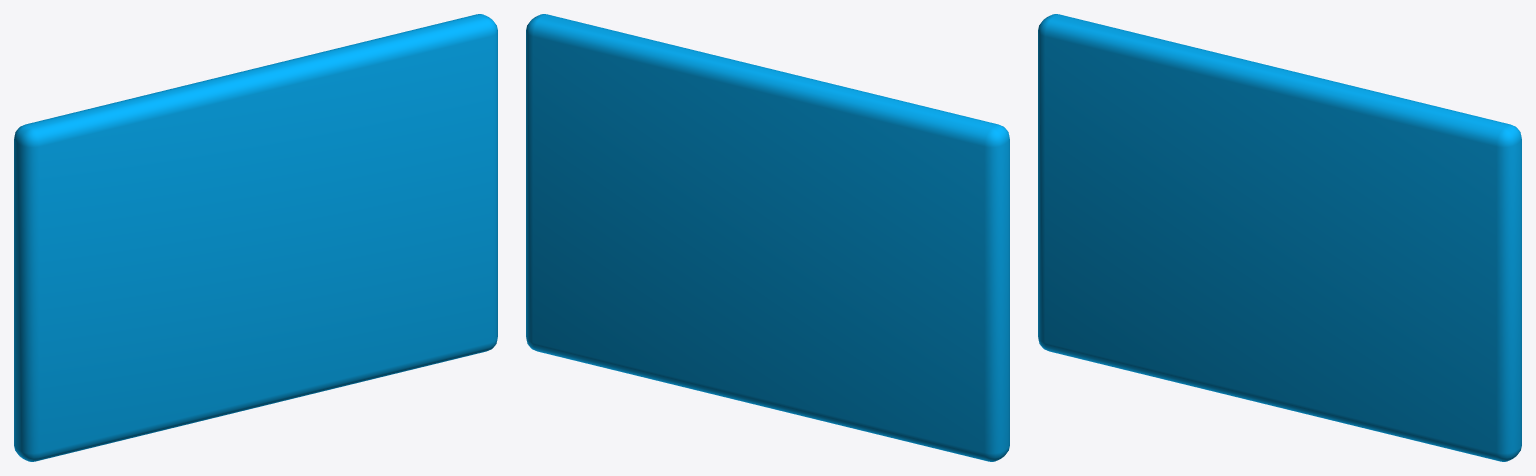
Rendered from ob_wall_square.fbx.
3 views of the same model, side by side, from view 1: azimuth 30°, elevation 25°; view 2: azimuth 150°, elevation 25°; view 3: azimuth 330°, elevation 25° (orthographic).
Parts seen in each view (by area): view 1: wall; view 2: wall; view 3: wall.
Boxes of the visible parts, x1,y1,x2,y2 form: wall: [14, 14, 497, 461]; wall: [526, 14, 1009, 461]; wall: [1038, 14, 1521, 461].
Size of the model in its own units: 150 by 100 by 10.
